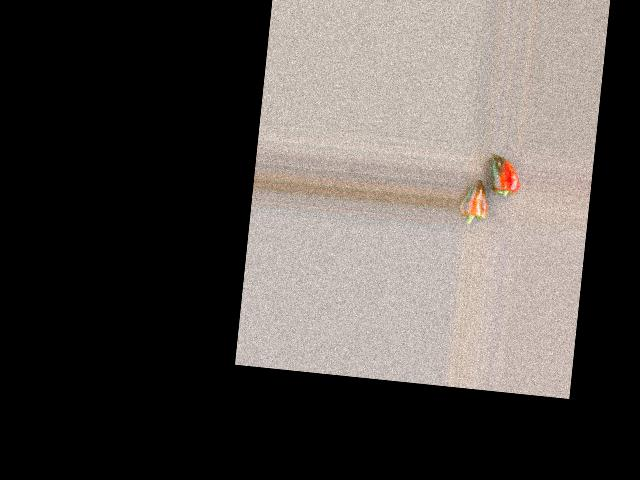bell_pepper: (485, 151, 524, 212)
